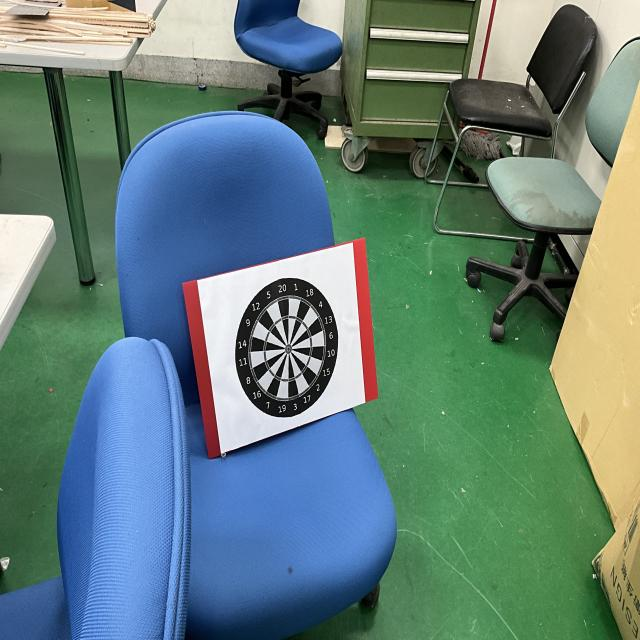archery-targets: (235, 276, 341, 420)
